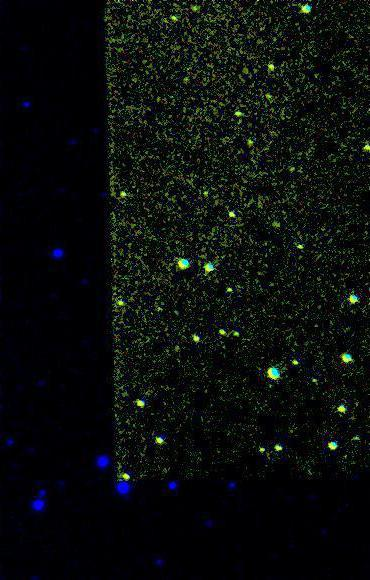star: (161, 1, 191, 31)
